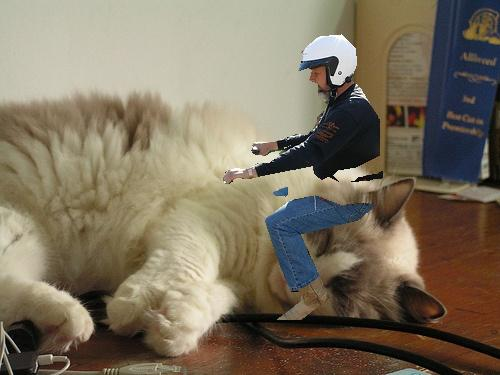tampered: (224, 35, 383, 320)
